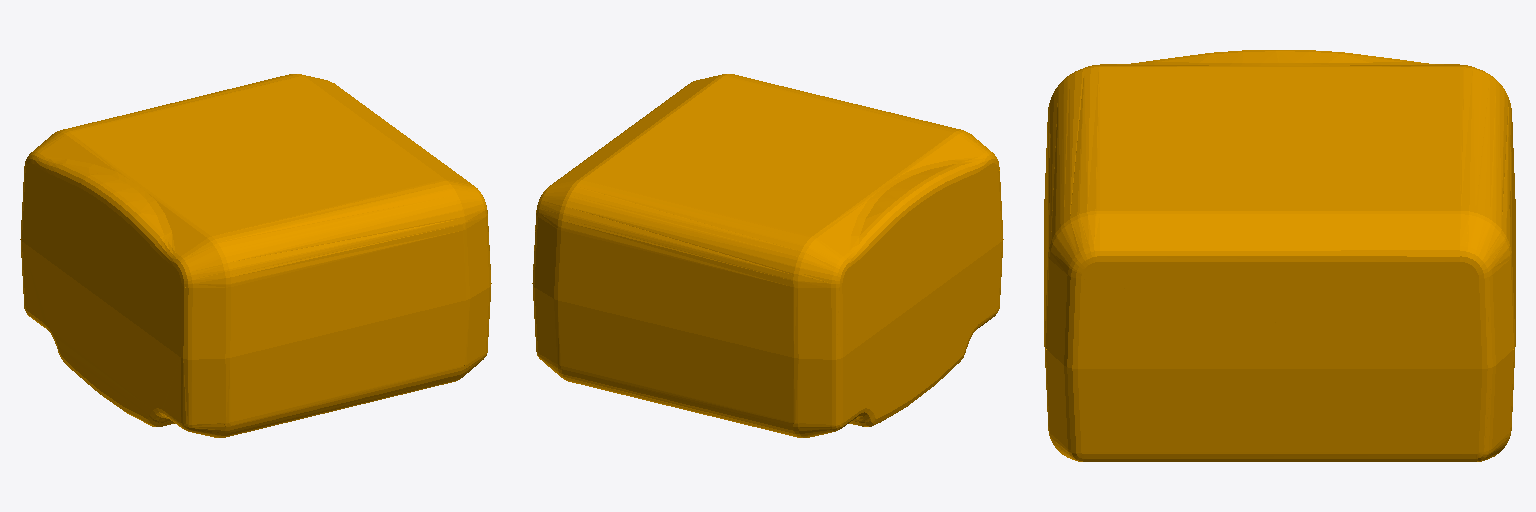
robot.urdf — gripper_link:
<robot name="gripper_link">
  <link name="gripper_link">
    <inertial>
      <origin rpy="0 0 0" xyz="-0.0900 -0.0001 -0.0017" />
      <mass value="1.5175" />
      <inertia ixx="0.0013" ixy="-0.0" ixz="0.0" iyy="0.0019" iyz="-0.0" izz="0.0024" />
    </inertial>
    <visual>
      <origin rpy="0 0 0" xyz="0 0 0" />
      <geometry>
        <mesh filename="package://fetch_description/meshes/gripper_link.obj" />
      </geometry>
    </visual>
    <collision>
      <origin rpy="0 0 0" xyz="0 0 0" />
      <geometry>
        <mesh filename="package://fetch_description/meshes/gripper_link.STL" />
      </geometry>
    </collision>
  </link>
</robot>

--- What the picture shows (computed from the rendered views, not written in the file) ---
The picture shows the robot from 3 angles, left to right: view 1: azimuth 30°, elevation 25°; view 2: azimuth 150°, elevation 25°; view 3: azimuth 270°, elevation 25°; orthographic projection.
Model gripper_link with 1 links and 0 joints (none), rooted at gripper_link, posed every joint at zero.
Visible links, largest first — view 1: gripper_link; view 2: gripper_link; view 3: gripper_link.
Link boxes in pixels (x1,y1,x2,y2): gripper_link: [20, 74, 491, 437]; gripper_link: [532, 74, 1003, 437]; gripper_link: [1044, 50, 1515, 461].
Bounding box of the posed robot: 0.122 × 0.1261 × 0.0795 m (x, y, z).
1 mesh visuals loaded from 1 distinct referenced files (1 OBJ).